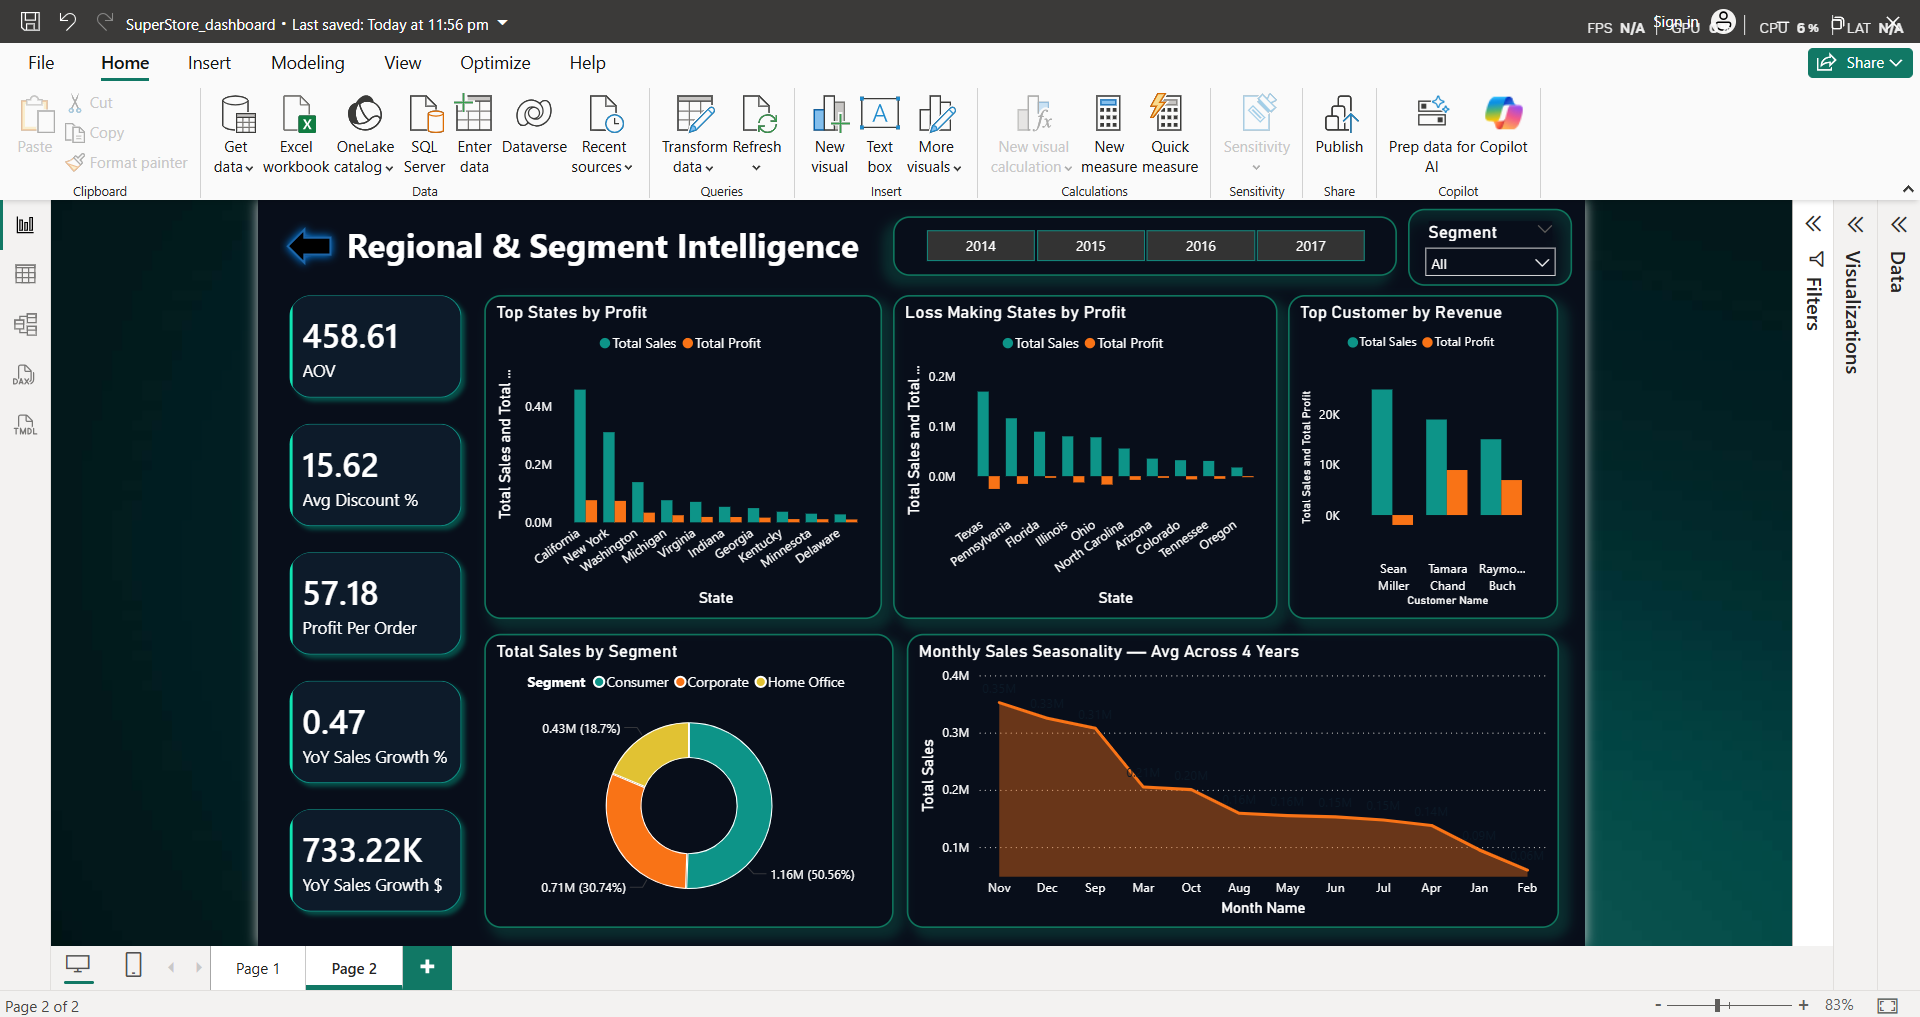

The dashboard page shown, as its layout file describes it:
{"tool":"powerbi","page":{"name":"Page 2","canvas":[1280,720],"ordinal":1},"visuals":[{"type":"donutChart","fields":{"Category":["Sample - Superstore.Segment"],"Y":["AllMeasures.Total Sales"]},"box":[218.4,418.5,395.3,284.3],"z":0},{"type":"areaChart","title":"Monthly Sales Seasonality — Avg Across 4 Years  ","fields":{"Category":["Sample - Superstore.Month Name"],"Y":["AllMeasures.Total Sales"]},"box":[626,418.5,629.6,284.3],"z":1000},{"type":"clusteredColumnChart","title":"Top States by Profit","fields":{"Category":["Sample - Superstore.State"],"Y":["AllMeasures.Total Sales","AllMeasures.Total Profit"]},"box":[218.2,92.2,383.6,312.8],"z":2000},{"type":"clusteredColumnChart","title":"Loss Making States by Profit","fields":{"Category":["Sample - Superstore.State"],"Y":["AllMeasures.Total Sales","AllMeasures.Total Profit"]},"box":[613.1,92.2,371.2,312.8],"z":3000},{"type":"slicer","fields":{"Values":["DateTable.Year"]},"box":[613.1,15.8,486,57.4],"z":4000},{"type":"cardVisual","fields":{"Data":["AllMeasures.AOV","AllMeasures.Avg Discount %","AllMeasures.Profit Per Order","AllMeasures.YoY Sales Growth %","AllMeasures.YoY Sales Growth $"]},"box":[0,61,227,658.9],"z":5000},{"type":"clusteredColumnChart","title":"Top Customer by Revenue","fields":{"Category":["Sample - Superstore.Customer Name"],"Y":["AllMeasures.Total Sales","AllMeasures.Total Profit"]},"box":[994.5,92.2,261,312.8],"z":6000},{"type":"slicer","fields":{"Values":["Sample - Superstore.Segment"]},"box":[1110.4,7.9,158.6,74.2],"z":7000},{"type":"shape","box":[85.5,7.9,540,68.6],"z":8000},{"type":"shape","box":[19.1,18,59.6,52.9],"z":8001}]}

Visuals, with their boxes on the page's 1280x720 design canvas (x1, y1, x2, y2). These are canvas units, not pixel positions in the 1920x1017 screenshot, which may show the page scaled, cropped or inside an application window:
donutChart - Sample - Superstore.Segment x AllMeasures.Total Sales: (x1=218, y1=418, x2=614, y2=703)
"Monthly Sales Seasonality — Avg Across 4 Years  " areaChart: (x1=626, y1=418, x2=1256, y2=703)
"Top States by Profit" clusteredColumnChart: (x1=218, y1=92, x2=602, y2=405)
"Loss Making States by Profit" clusteredColumnChart: (x1=613, y1=92, x2=984, y2=405)
slicer - DateTable.Year: (x1=613, y1=16, x2=1099, y2=73)
cardVisual - AllMeasures.AOV x AllMeasures.Avg Discount %: (x1=0, y1=61, x2=227, y2=720)
"Top Customer by Revenue" clusteredColumnChart: (x1=994, y1=92, x2=1256, y2=405)
slicer - Sample - Superstore.Segment: (x1=1110, y1=8, x2=1269, y2=82)
shape: (x1=86, y1=8, x2=626, y2=76)
shape: (x1=19, y1=18, x2=79, y2=71)
